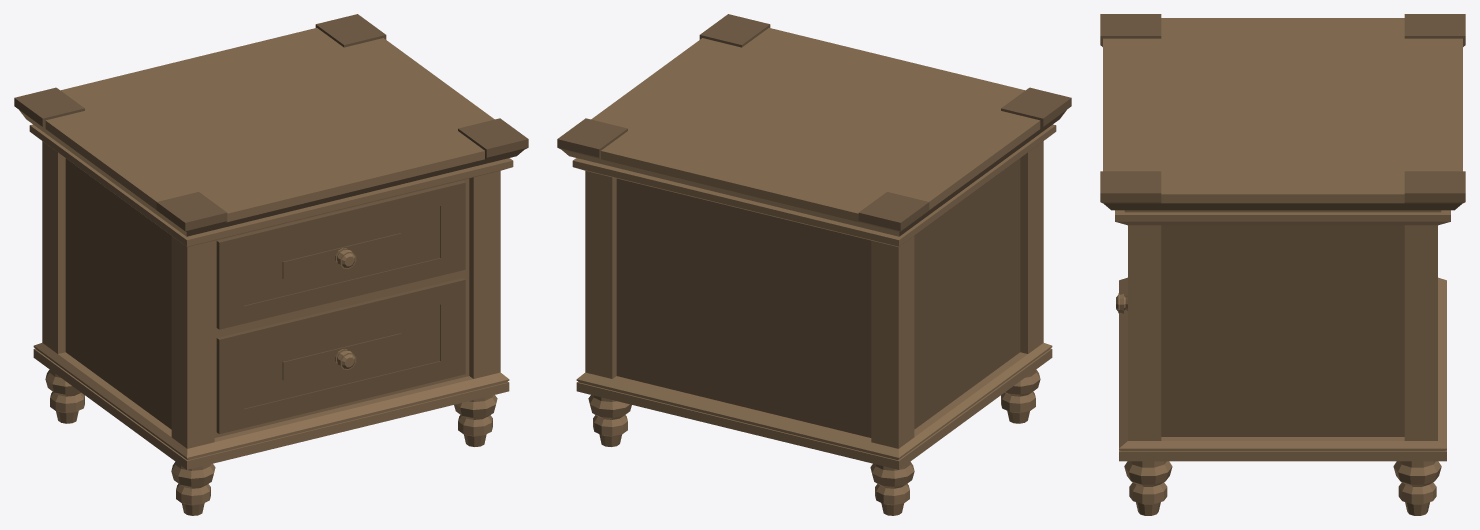
File: NightStand.glb
The picture shows the model from 3 angles, left to right: view 1: azimuth 30°, elevation 25°; view 2: azimuth 150°, elevation 25°; view 3: azimuth 270°, elevation 25°; orthographic projection. The views are drawn at different scales.
Visible parts, largest first — view 1: Nightstand, BottomDrawer, TopDrawer; view 2: Nightstand; view 3: Nightstand.
Part boxes in pixels (bbox=[...]): Nightstand: bbox=[14, 14, 528, 515]; BottomDrawer: bbox=[216, 278, 465, 434]; TopDrawer: bbox=[216, 181, 465, 329]; Nightstand: bbox=[557, 14, 1071, 515]; Nightstand: bbox=[1100, 14, 1465, 515].
Size of the model in its own units: 0.5877 by 0.5117 by 0.5067.
